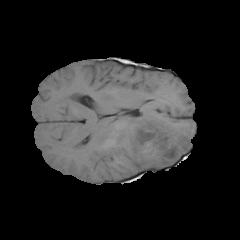glioma: (114, 113, 194, 170)
